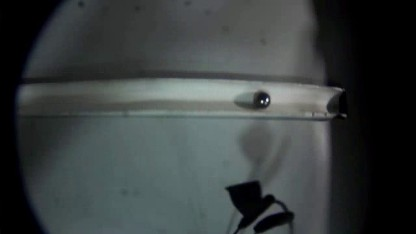gangzhu: (251, 88, 272, 110)
